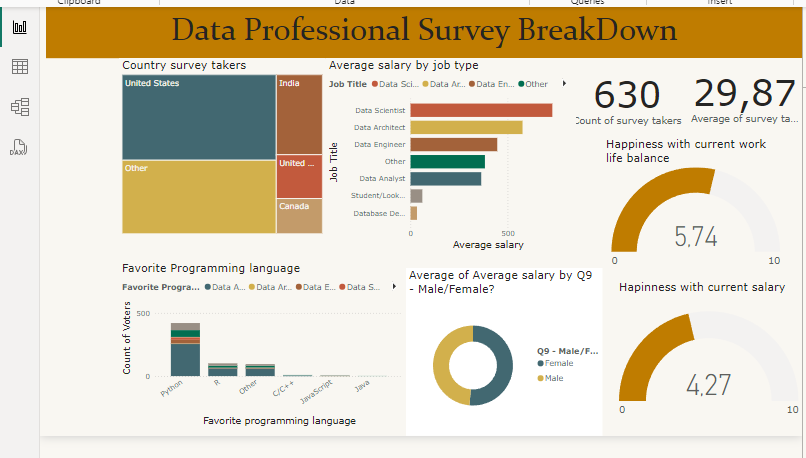

This screenshot's page, from the dashboard's own definition file:
{"tool":"powerbi","page":{"name":"Page 1","canvas":[1280,720],"ordinal":0},"visuals":[{"type":"textbox","box":[10.1,0,1269.9,85.7],"z":0},{"type":"card","fields":{"Values":["CountNonNull(Data Professional Survey.Unique ID)"]},"box":[885,85,201.7,133.3],"z":1000},{"type":"card","fields":{"Values":["Avg(Data Professional Survey.Q10 - Current Age)"]},"box":[1086.7,85,193.3,126.7],"z":2000},{"type":"barChart","title":"Average salary by job type","fields":{"Category":["Data Professional Survey.Q1 - Which Title Best Fits your Current Role?.1"],"Y":["Avg(Data Professional Survey.Average salary)"],"Series":["Data Professional Survey.Q1 - Which Title Best Fits your Current Role?.1"]},"box":[480,85,420,328.3],"z":3000},{"type":"columnChart","title":"Favorite Programming language","fields":{"Category":["Data Professional Survey.Q5 - Favorite Programming Language.1"],"Y":["CountNonNull(Data Professional Survey.Unique ID)"],"Series":["Data Professional Survey.Q1 - Which Title Best Fits your Current Role?.1"]},"box":[133.3,426.7,481.7,281.7],"z":4000},{"type":"treemap","title":"Country survey takers","fields":{"Group":["Data Professional Survey.Q11 - Which Country do you live in?.1"],"Values":["CountNonNull(Data Professional Survey.Q11 - Which Country do you live in?.1)"]},"box":[133.3,85,346.7,300],"z":5000},{"type":"gauge","title":"Happiness with  current work life balance","fields":{"Y":["Avg(Data Professional Survey.Q6 - How Happy are you in your Current Position with the following? (Work/Life Balance))"],"MinValue":["Min(Data Professional Survey.Q6 - How Happy are you in your Current Position with the following? (Work/Life Balance))1"],"MaxValue":["Max(Data Professional Survey.Q6 - How Happy are you in your Current Position with the following? (Work/Life Balance))2"]},"box":[945,218.3,311.7,226.7],"z":6000},{"type":"gauge","title":"Hapinness with current salary","fields":{"Y":["Avg(Data Professional Survey.Q6 - How Happy are you in your Current Position with the following? (Salary))"],"MinValue":["Min(Data Professional Survey.Q6 - How Happy are you in your Current Position with the following? (Salary))1"],"MaxValue":["Max(Data Professional Survey.Q6 - How Happy are you in your Current Position with the following? (Salary))2"]},"box":[968.3,458.3,311.7,261.7],"z":7000},{"type":"donutChart","fields":{"Category":["Data Professional Survey.Q9 - Male/Female?"],"Y":["Avg(Data Professional Survey.Average salary)"]},"box":[615,438.3,330,281.7],"z":8000}]}

Visuals, with their boxes in screenshot pixels (x1, y1, x2, y2):
textbox: 46, 4, 805, 57
card - CountNonNull(Data Professional Survey.Unique ID): 589, 57, 715, 140
card - Avg(Data Professional Survey.Q10 - Current Age): 715, 57, 805, 136
"Average salary by job type" barChart: 338, 57, 599, 261
"Favorite Programming language" columnChart: 123, 269, 422, 444
"Country survey takers" treemap: 123, 57, 338, 243
"Happiness with  current work life balance" gauge: 627, 140, 805, 281
"Hapinness with current salary" gauge: 641, 289, 805, 451
donutChart - Data Professional Survey.Q9 - Male/Female? x Avg(Data Professional Survey.Average salary): 422, 276, 627, 451
